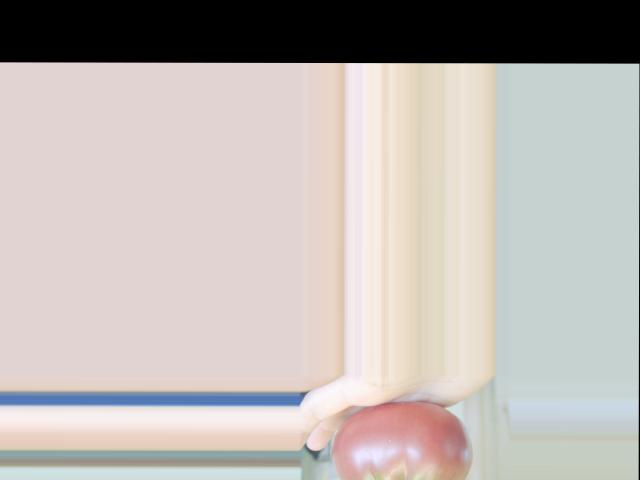tomato: (332, 401, 473, 480)
